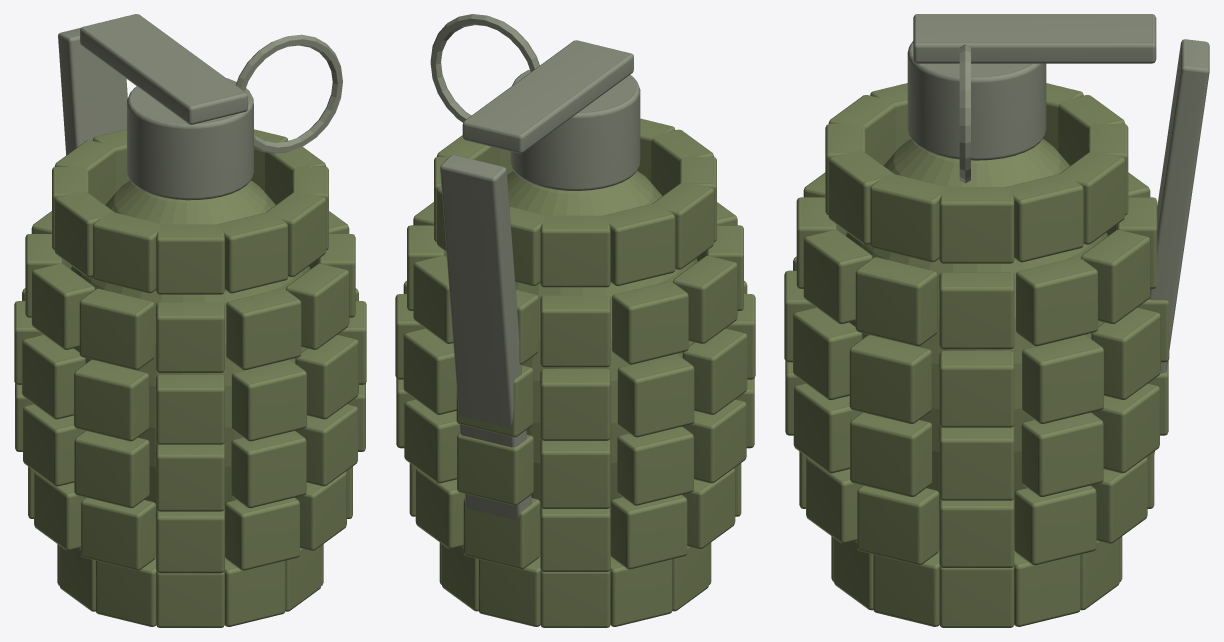
Rendered from us-mk2-grenade.glb.
3 renders of one model, left to right at view 1: azimuth 30°, elevation 25°; view 2: azimuth 150°, elevation 25°; view 3: azimuth 270°, elevation 25°, orthographic. The views are drawn at different scales.
Visible parts, largest first — view 1: us-mk2-grenade; view 2: us-mk2-grenade; view 3: us-mk2-grenade.
Part boxes in pixels (left/top/right/bottom): us-mk2-grenade: left=14, top=14, right=366, bottom=627; us-mk2-grenade: left=395, top=14, right=755, bottom=627; us-mk2-grenade: left=784, top=14, right=1209, bottom=627.
Size of the model in its own units: 0.0666 by 0.1091 by 0.0735.
